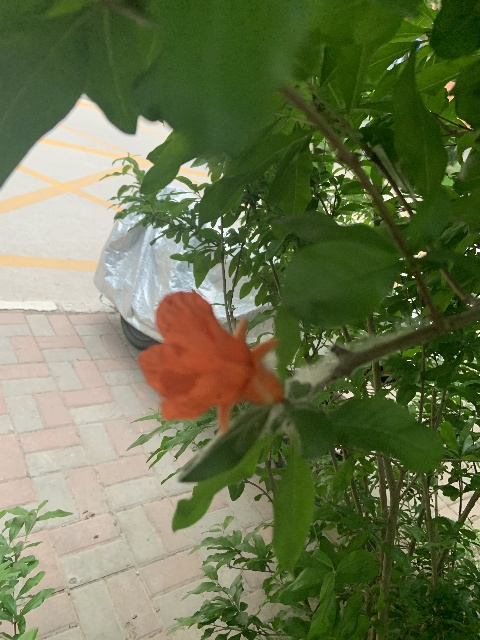flower: (137, 289, 283, 434)
